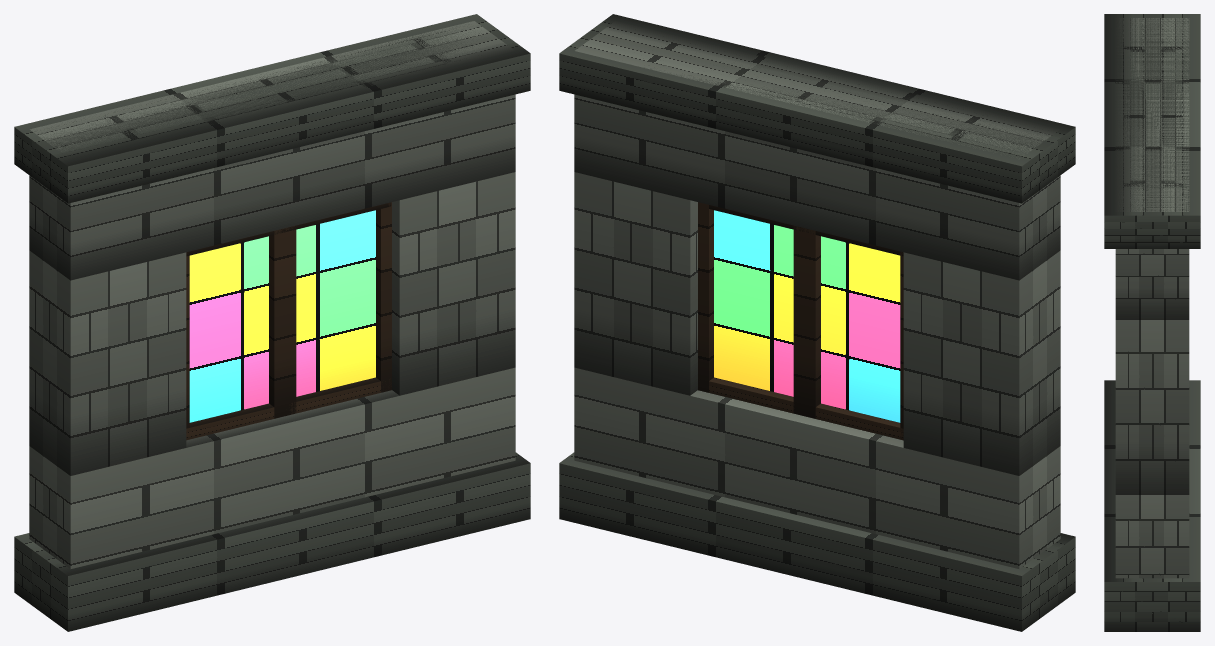
The model's file is wall_window.gltf.
The picture shows the model from 3 angles, left to right: view 1: azimuth 30°, elevation 25°; view 2: azimuth 150°, elevation 25°; view 3: azimuth 270°, elevation 25°; orthographic projection. The views are drawn at different scales.
Visible parts, largest first — view 1: wall_window; view 2: wall_window; view 3: wall_window.
Boxes of the visible parts, <box> form: wall_window: <box>14,14,530,631</box>; wall_window: <box>559,14,1075,631</box>; wall_window: <box>1104,14,1200,631</box>.
Bounding box in the file's own units: 1.04 × 1 × 0.21.
Materials: 1 (1 with a texture image).
